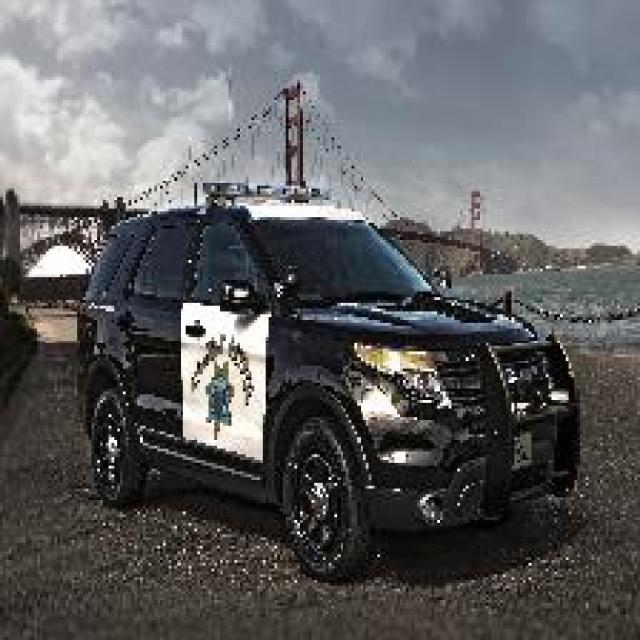emergency: (73, 187, 583, 585)
